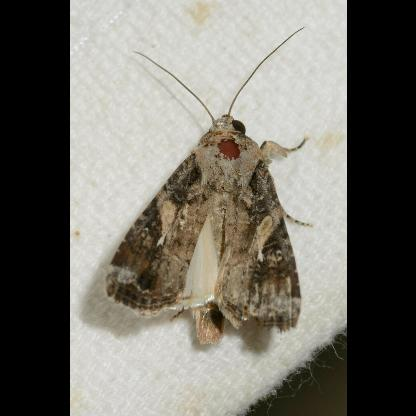Fall Armyworm Moth: (101, 24, 317, 348)
